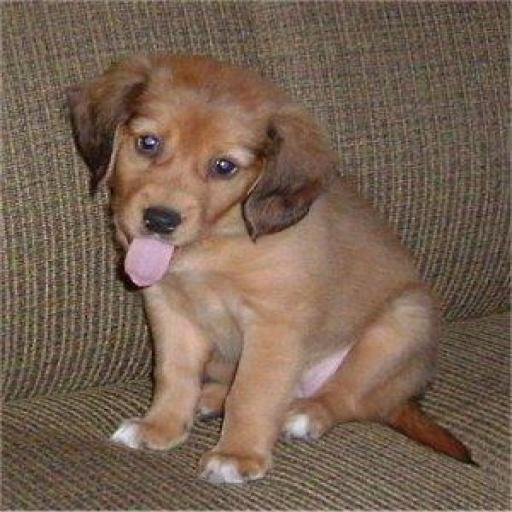dog_face: (81, 64, 334, 288)
